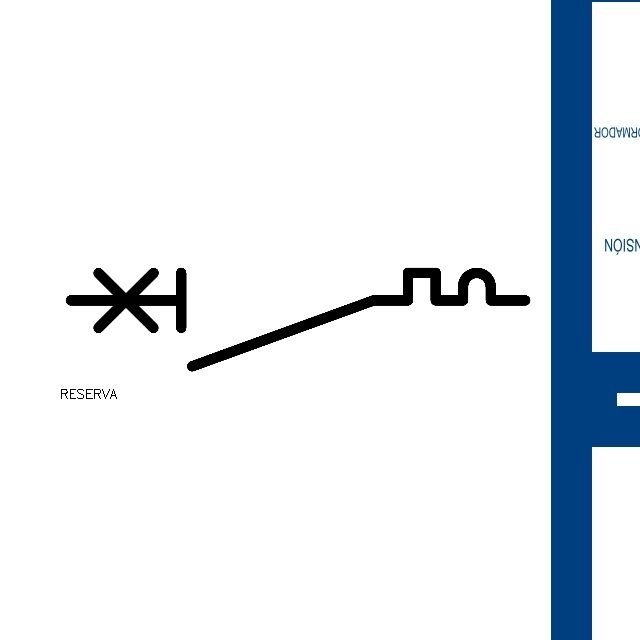interruptor_termomagnetico: (59, 261, 537, 378)
